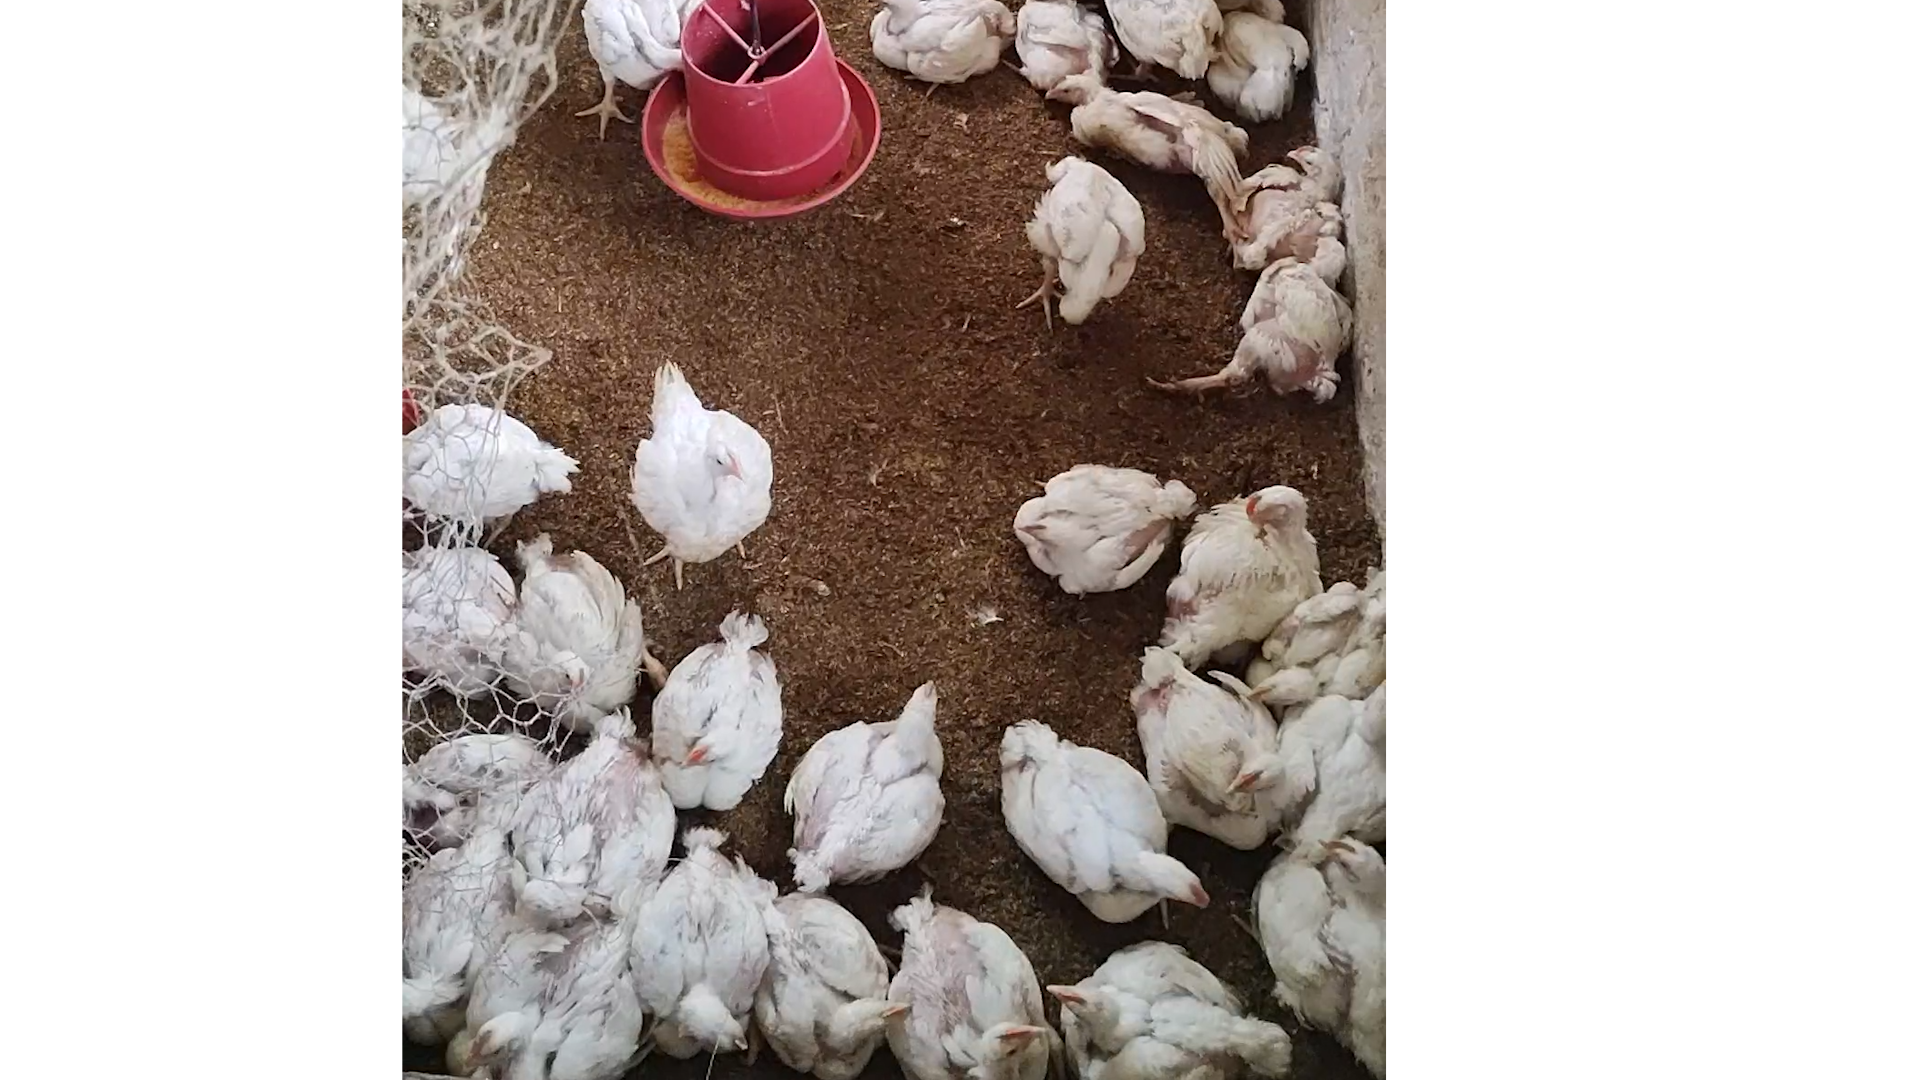Pollos: (984, 719, 1215, 926), (1102, 634, 1317, 851), (1141, 236, 1375, 404), (773, 680, 949, 895), (500, 501, 659, 719), (632, 818, 771, 1063), (878, 894, 1062, 1080), (1048, 940, 1296, 1077), (462, 906, 653, 1077), (1255, 810, 1385, 1060), (752, 882, 909, 1077), (636, 360, 775, 579), (524, 723, 670, 923), (1031, 73, 1251, 200), (1158, 467, 1317, 640), (655, 611, 782, 811), (400, 392, 591, 522), (1014, 458, 1187, 587), (1023, 152, 1145, 328), (1238, 579, 1393, 717), (404, 539, 533, 684), (568, 0, 698, 144), (1283, 680, 1389, 836), (866, 0, 1025, 87), (1228, 135, 1348, 240), (1106, 0, 1238, 88), (1007, 1, 1116, 100), (1222, 0, 1307, 115)
